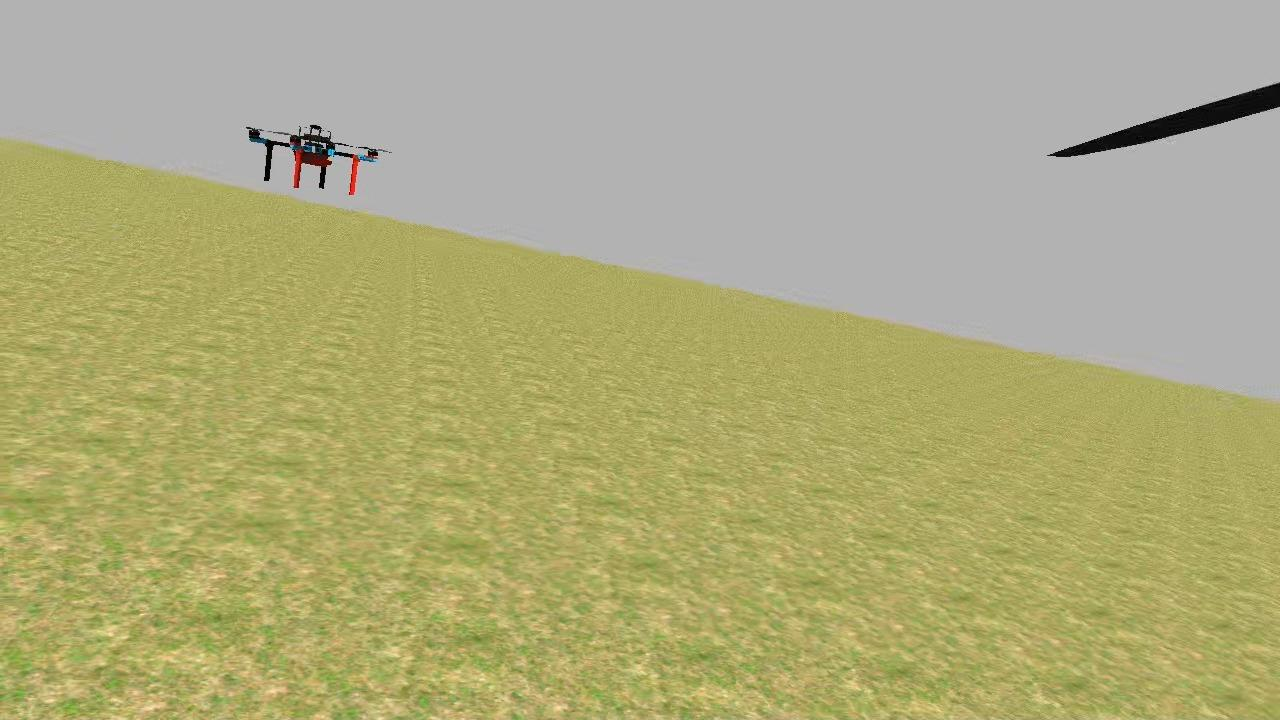UAV: (217, 107, 416, 214)
